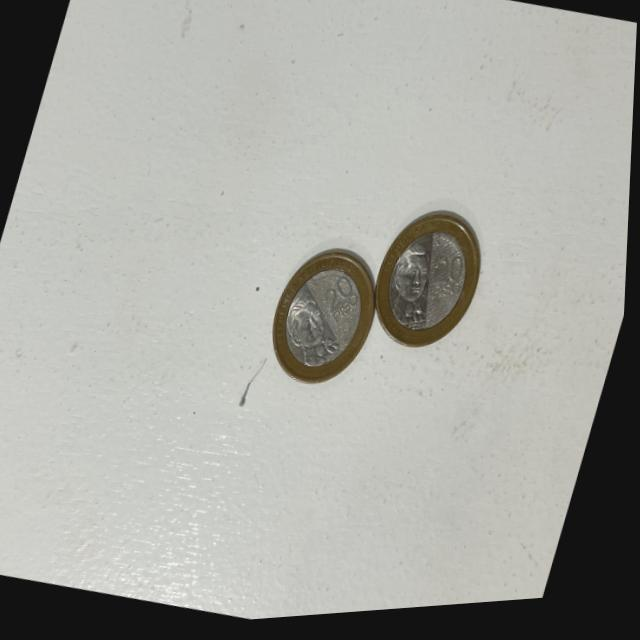20_New_Front: (423, 248, 480, 314), (317, 276, 370, 330)
